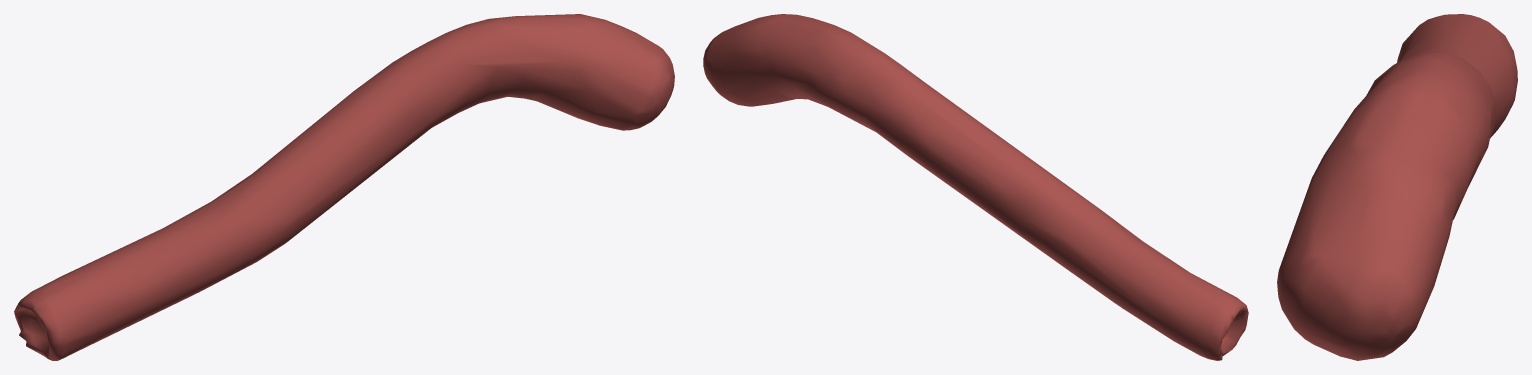
Rendered from FMA4755.glb.
The picture shows the model from 3 angles, left to right: view 1: azimuth 30°, elevation 25°; view 2: azimuth 150°, elevation 25°; view 3: azimuth 270°, elevation 25°; orthographic projection. The views are drawn at different scales.
Visible parts, largest first — view 1: FMA4755; view 2: FMA4755; view 3: FMA4755.
Part boxes in pixels (left/top/right/bottom): FMA4755: left=14, top=14, right=674, bottom=360; FMA4755: left=703, top=14, right=1248, bottom=360; FMA4755: left=1277, top=14, right=1517, bottom=360.
Bounding box in the file's own units: 0.0645 × 0.0241 × 0.0138.
